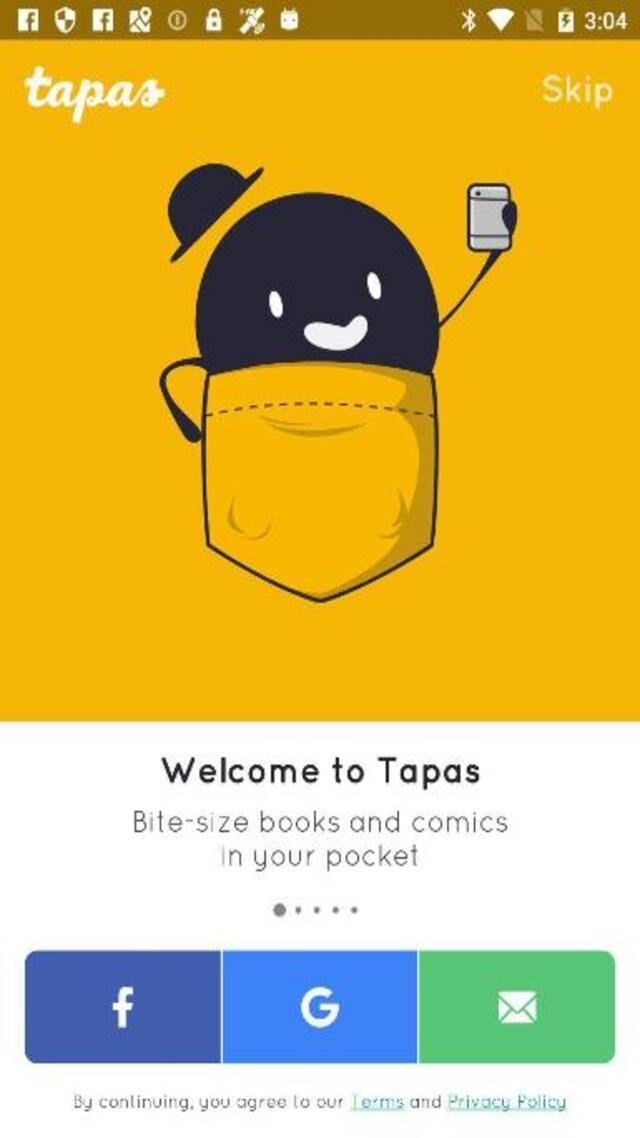Icon: (25, 950, 221, 1062), (224, 950, 418, 1062), (420, 950, 614, 1062)
Image: (158, 162, 517, 603), (25, 66, 165, 122)
Text: (131, 809, 513, 838), (72, 1092, 572, 1114), (162, 757, 482, 791), (215, 842, 426, 872)
TextButton: (542, 74, 612, 110)
